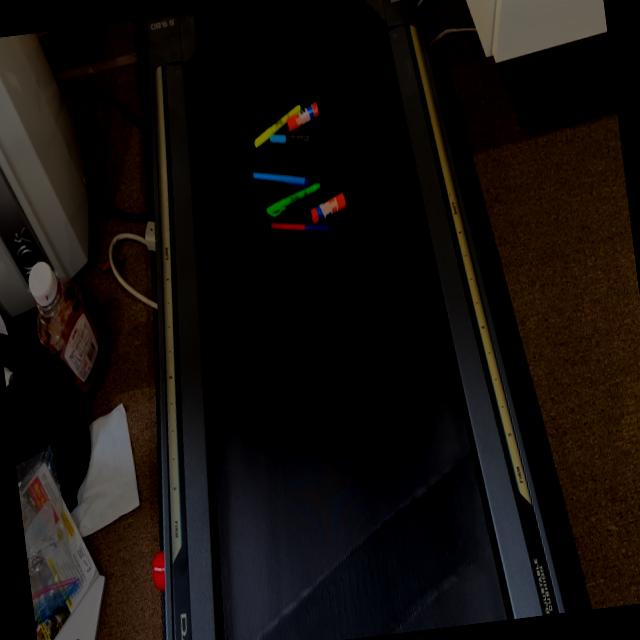Trash: (238, 92, 356, 249)
